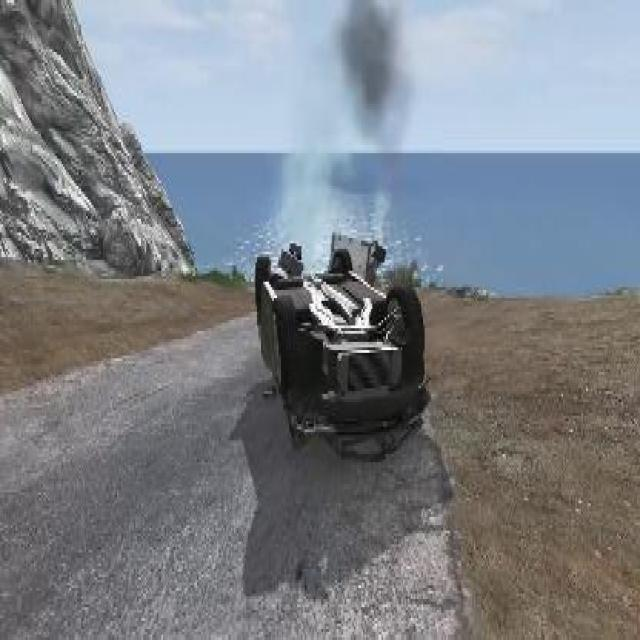accident: (249, 234, 434, 466)
